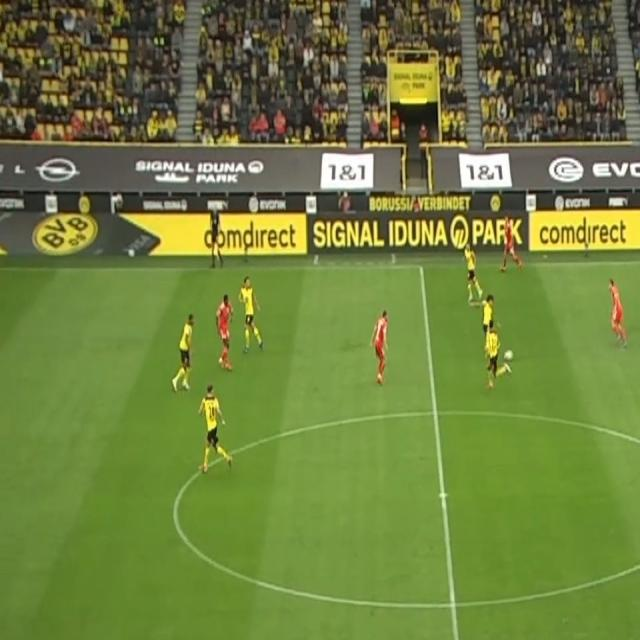ball: (504, 347, 515, 363)
